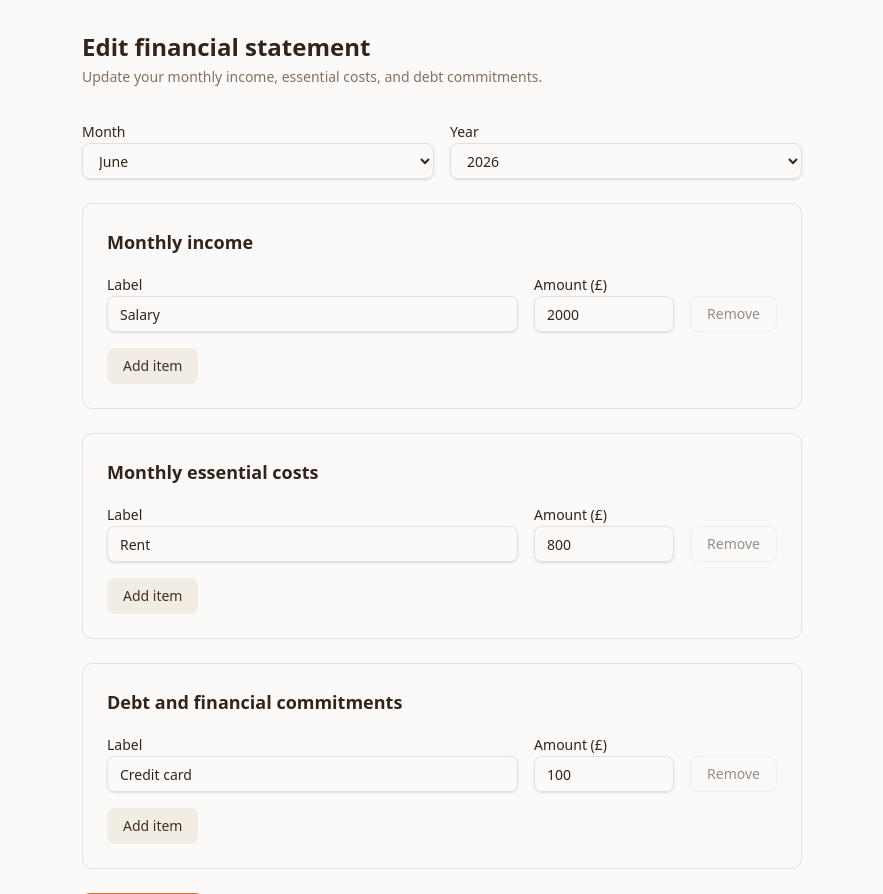
Test: StatementNewPage › loads an existing statement in edit mode and submits a PATCH
The width and height of the screenshot is (883, 894).
Expected: the heading "Edit financial statement" is shown, [82,30,370,63]
Expected: the 1st number field showing "2000" is shown, [534,296,674,332]
Replace the text in the 1st field showing "Salary" with "Salary plus bonus": (313, 314) [107,296,518,332]
(page scrolled)
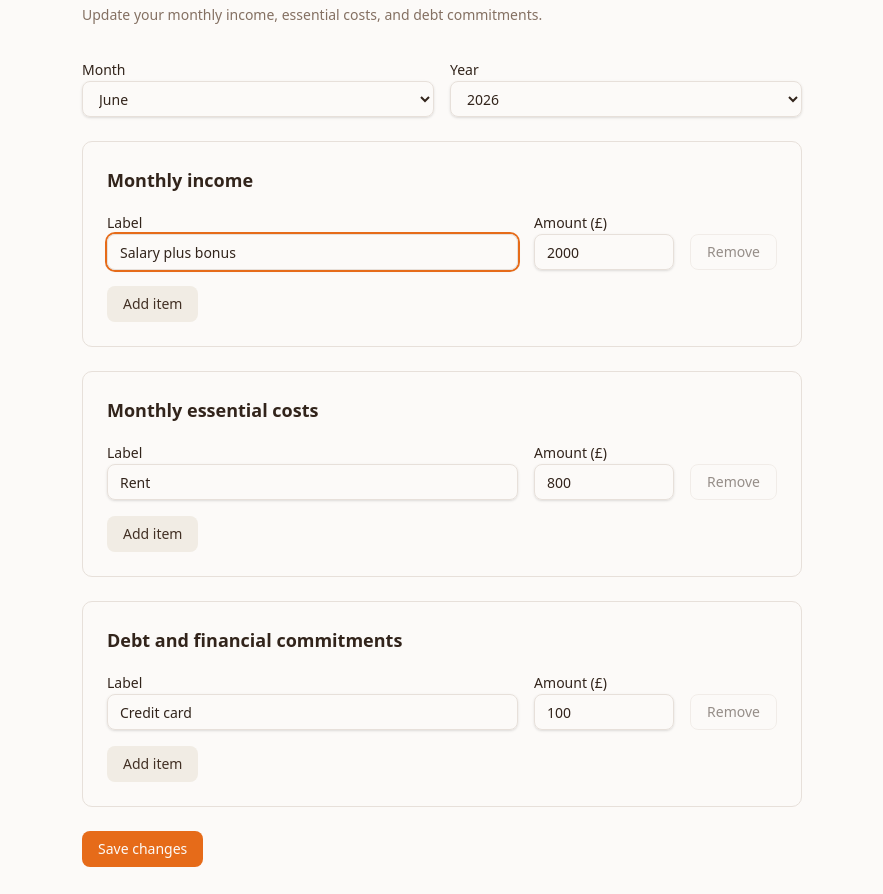
Click the button "Save changes": (143, 849) [82,831,203,867]
(page scrolled)
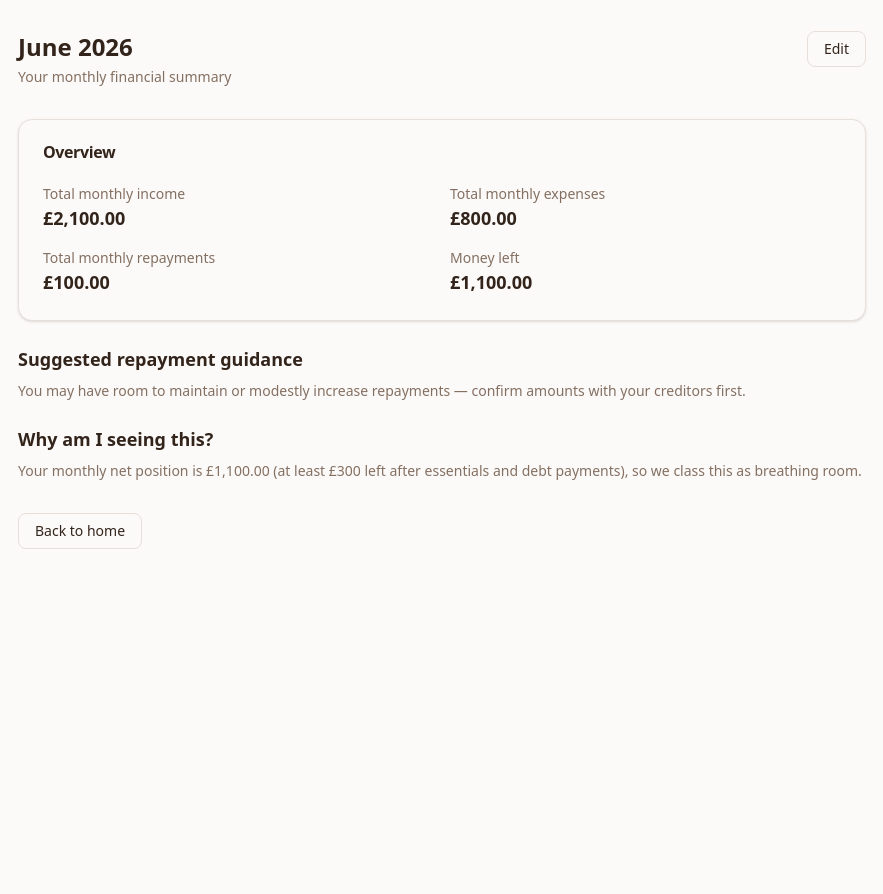
Expected: the heading "June 2026" is shown, [18,30,133,63]
